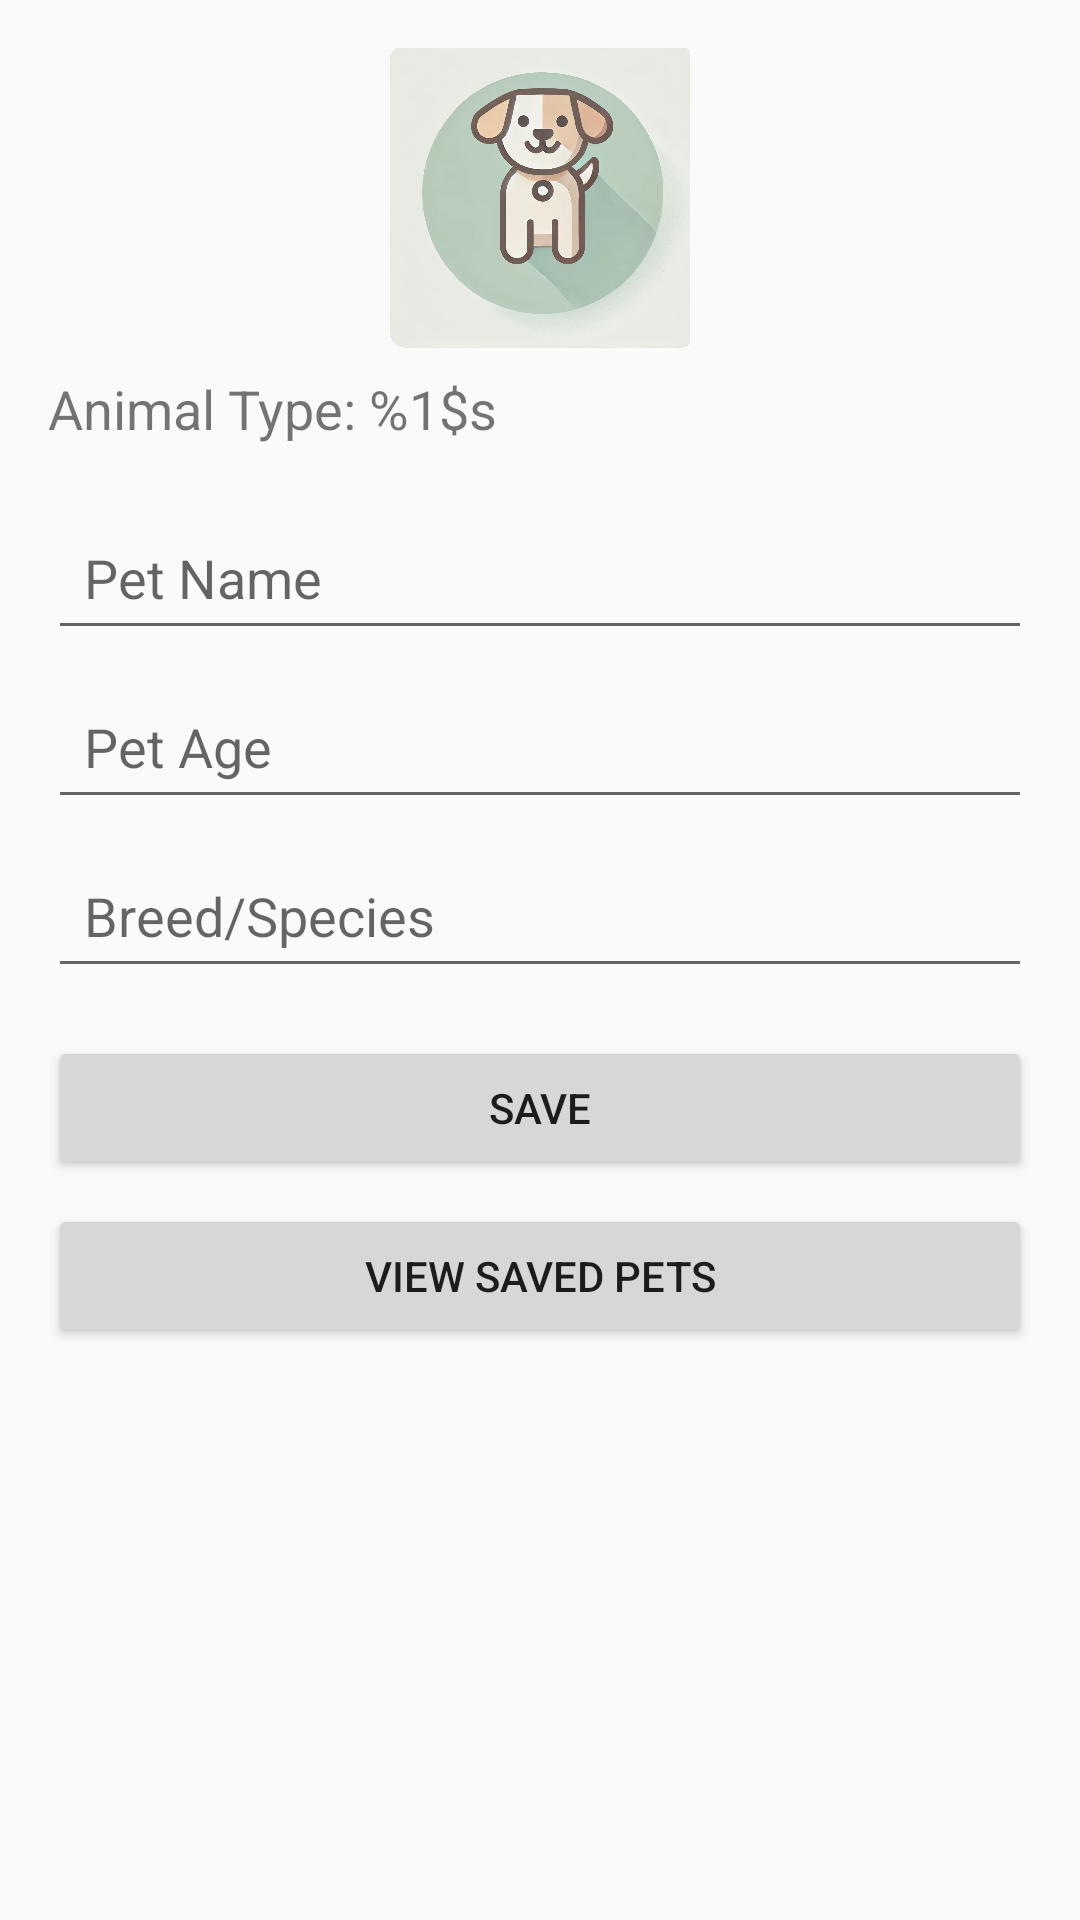

Point at icon controls on the screen. Image size 1080px x 1920px, points as (x,y).
dog: (540,198)
